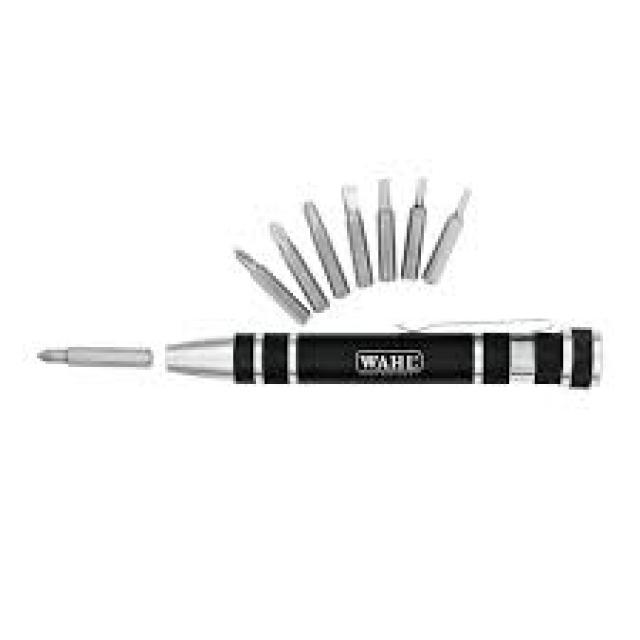screwdriver: (7, 309, 611, 407)
